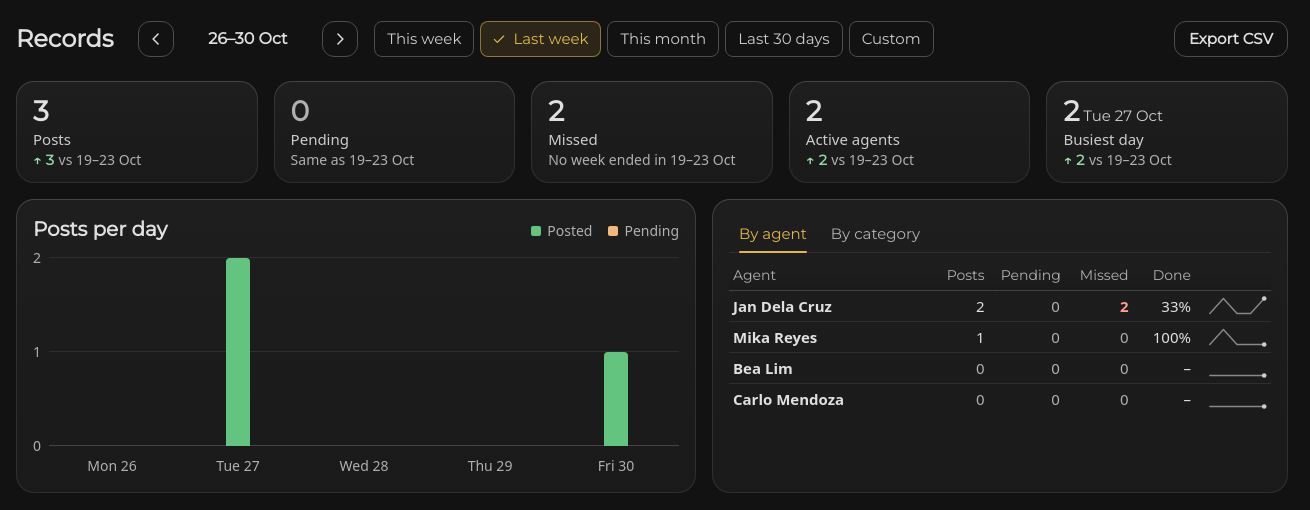
Test: RecordsScreen › exports every post of the period as the owner’s sheet: its columns in its order, its date and time
Click the button "Export CSV": (1231, 39) [1174,21,1288,57]
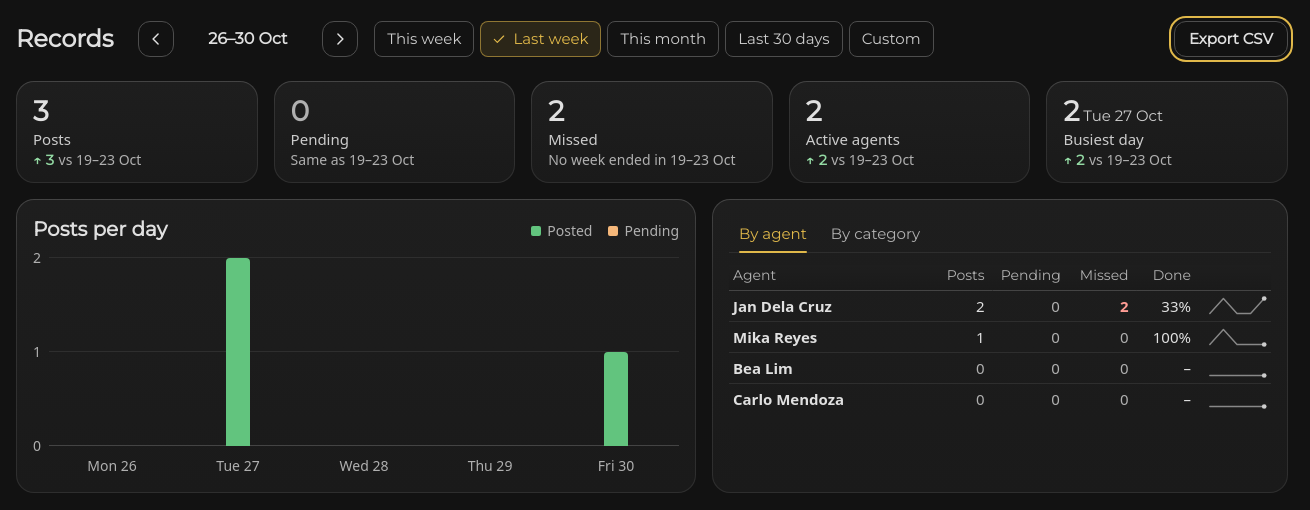
// This week: all six, whatever bar is hovered.
Click the button "This week": (424, 39) [374,21,474,57]
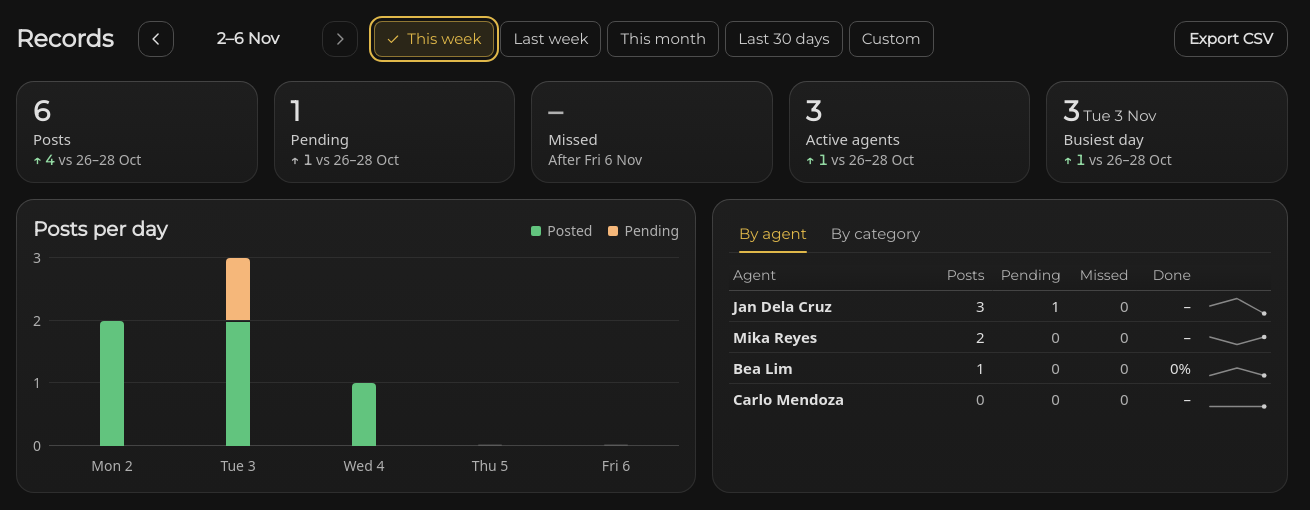
Hover over the picture named "Tue 3 Nov": (238, 352) [226,258,250,446]
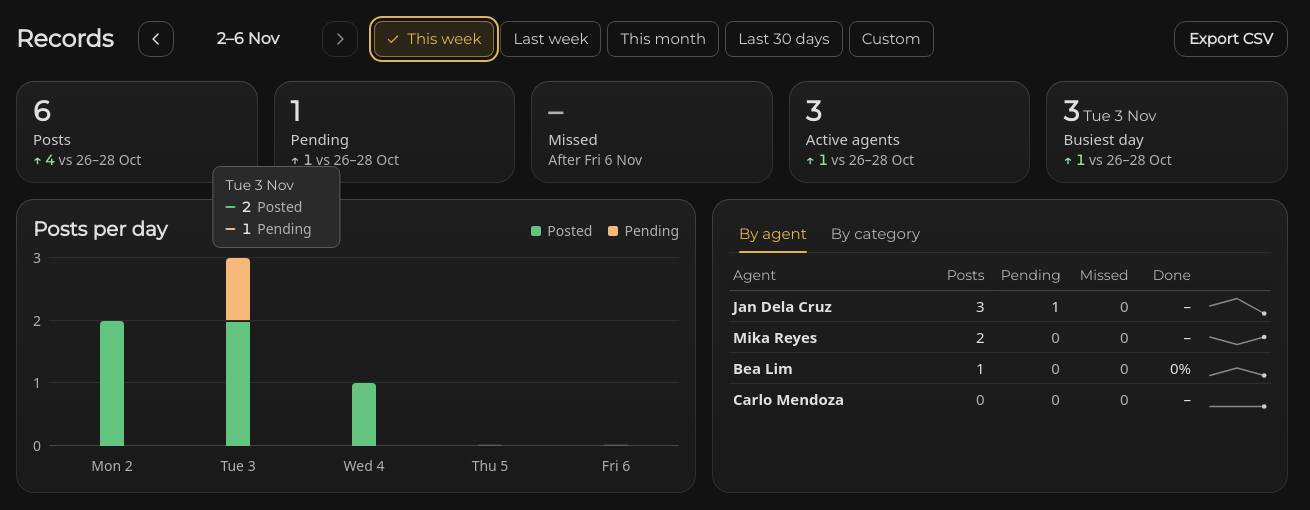
Click the button "Export CSV": (1231, 39) [1174,21,1288,57]
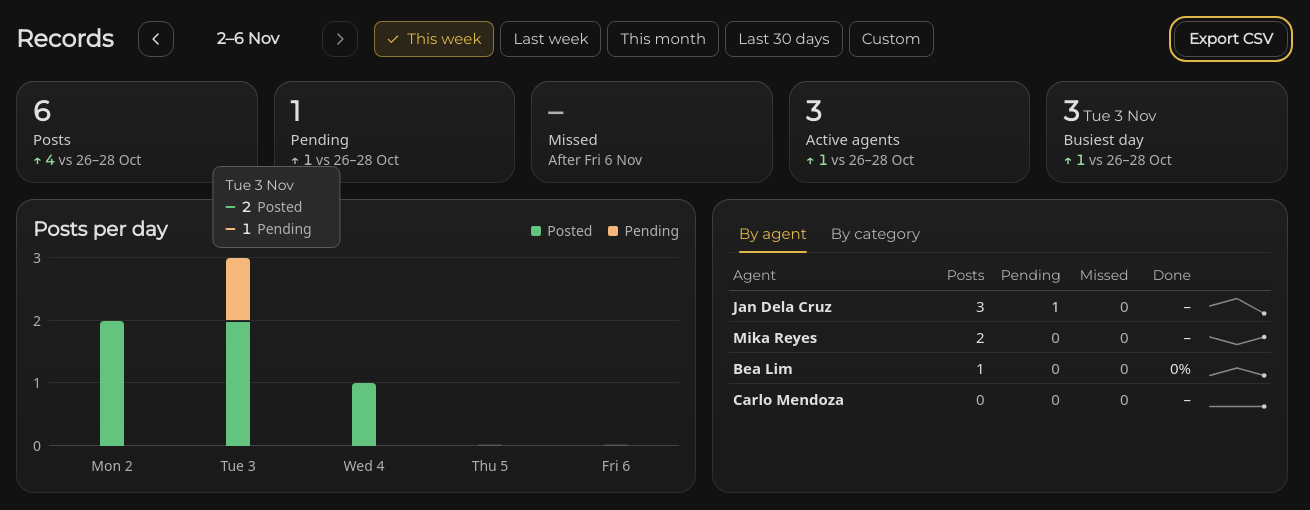
// A period with no posts has nothing to export.
Click the 1st button named "Week before": (156, 39) [138,21,174,57]
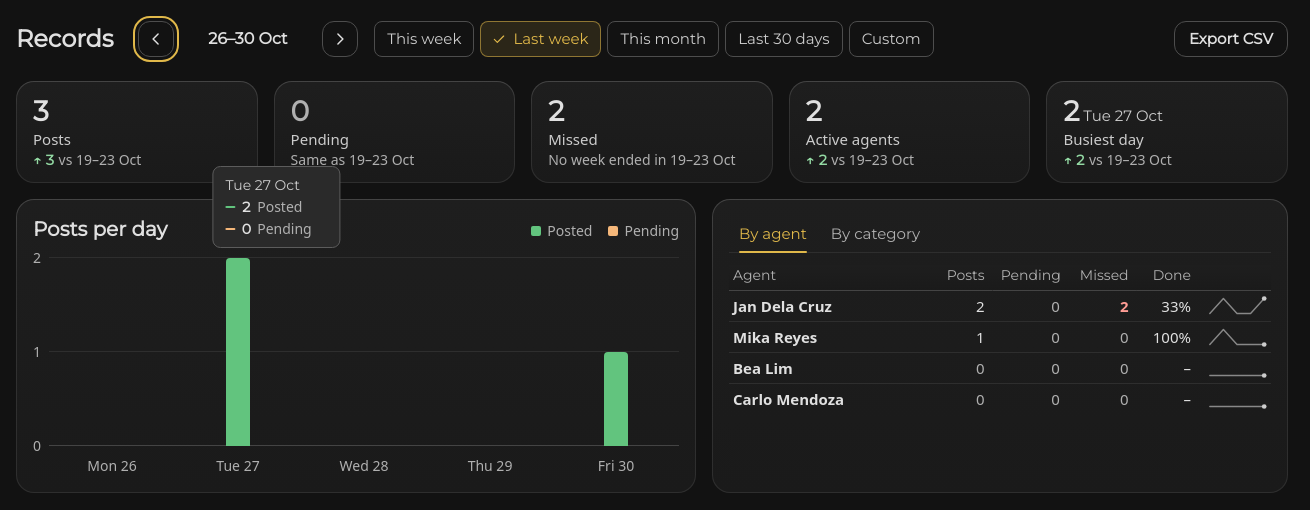
Click the 1st button named "Week before": (156, 39) [138,21,174,57]
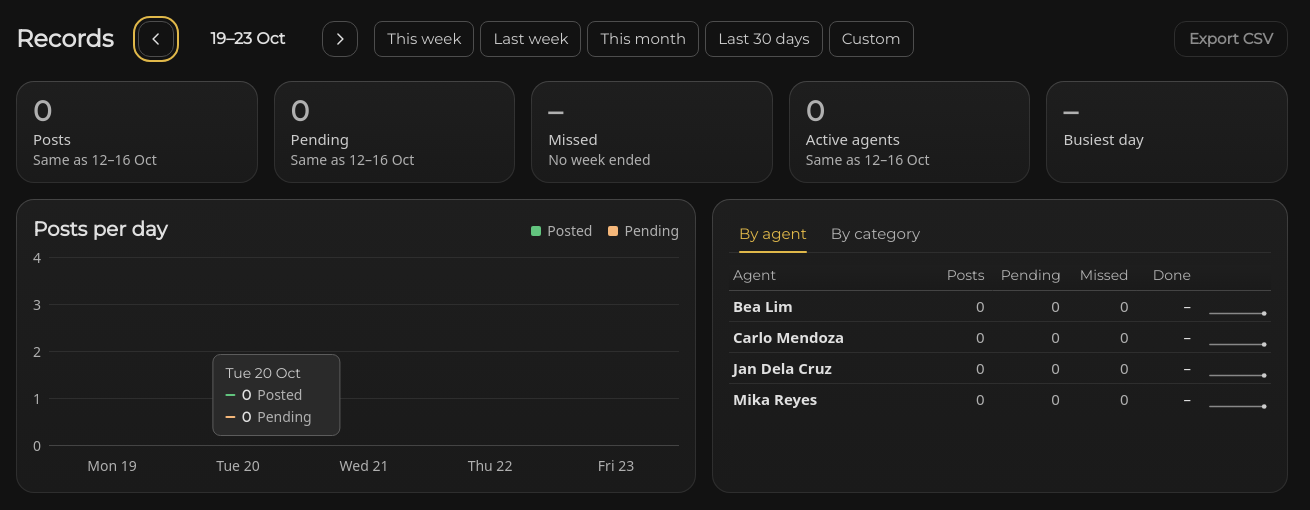
Check: the button "Export CSV" is disabled, box [1174,21,1288,57]
